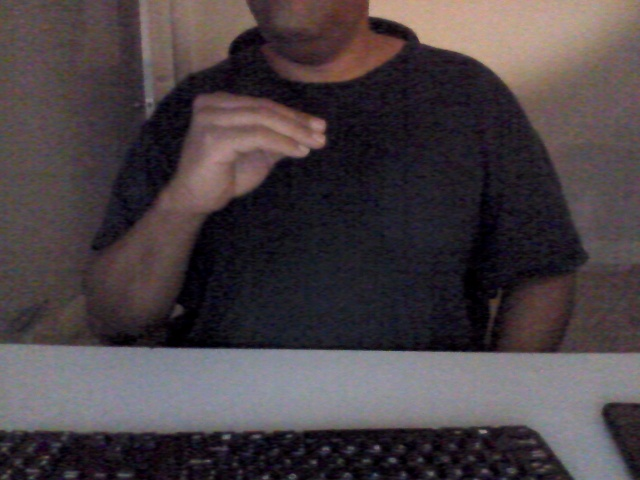eat: (160, 90, 340, 214)
